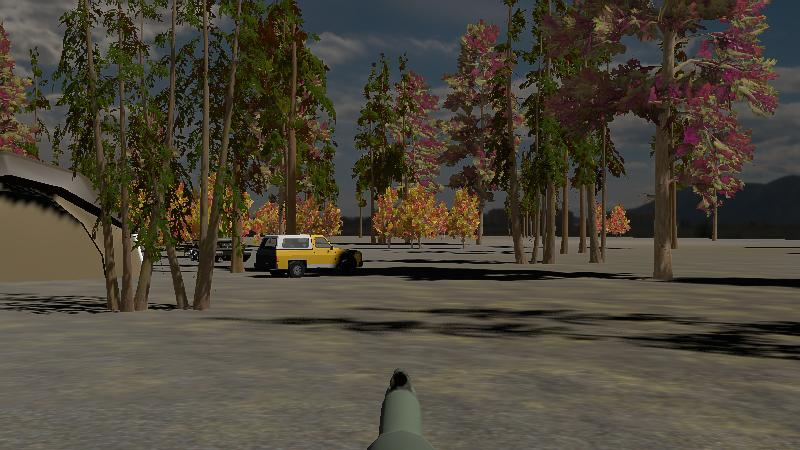Tank: (175, 233, 254, 266)
car: (254, 233, 365, 279)
